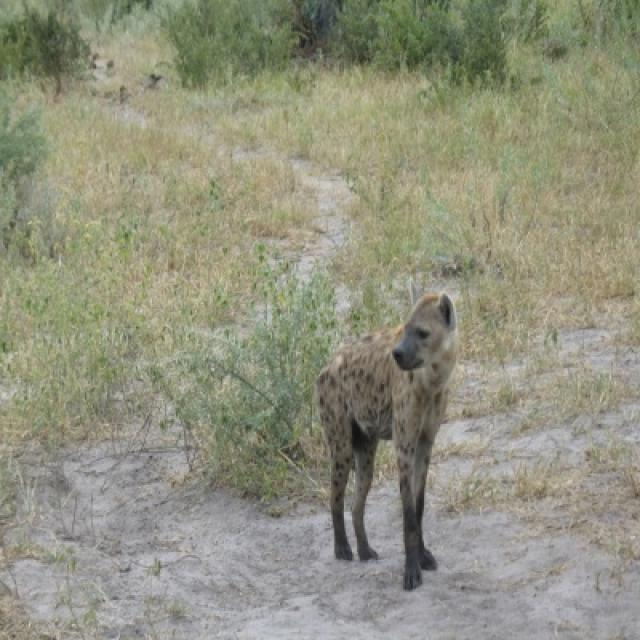hyena: (318, 293, 456, 589)
